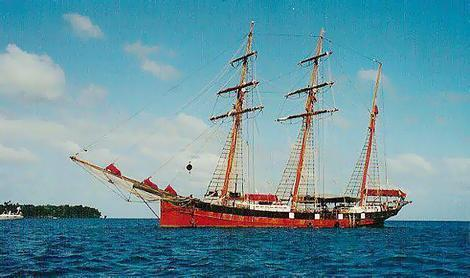Ship: (70, 22, 412, 232)
